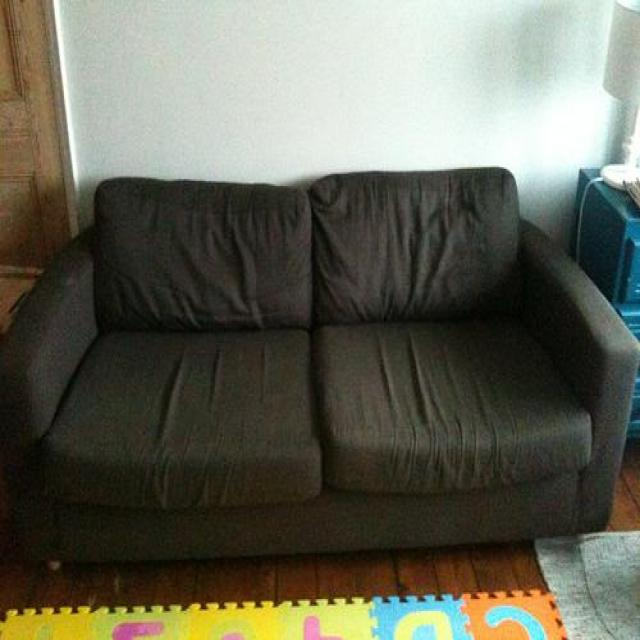sofa: (0, 164, 640, 573)
